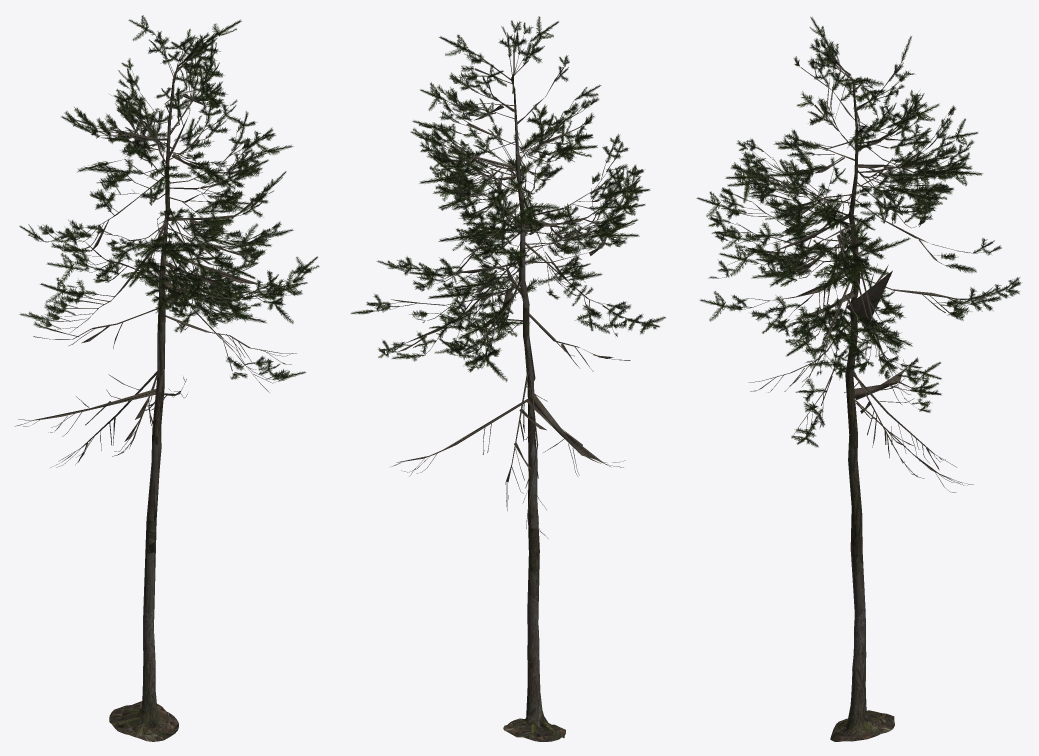
Rendered from fir_tree_01_c_far.glb.
The picture shows the model from 3 angles, left to right: view 1: azimuth 30°, elevation 25°; view 2: azimuth 150°, elevation 25°; view 3: azimuth 270°, elevation 25°; orthographic projection. The views are drawn at different scales.
Parts seen in each view (by area): view 1: fir_tree_01_c_far; view 2: fir_tree_01_c_far; view 3: fir_tree_01_c_far.
Boxes of the visible parts, <box> form: fir_tree_01_c_far: <box>15,15,319,741</box>; fir_tree_01_c_far: <box>350,16,665,741</box>; fir_tree_01_c_far: <box>696,16,1020,741</box>.
Bounding box in the file's own units: 6.35 × 14.55 × 6.01.
Materials: 3 (3 with a texture image).
